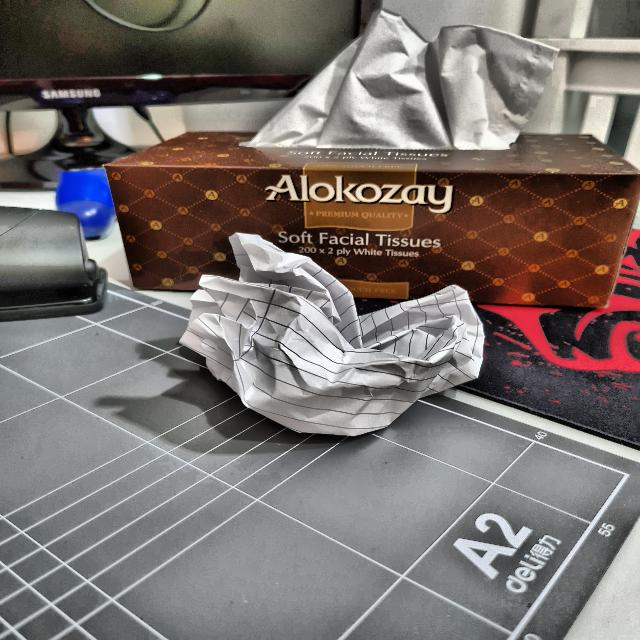Paper: (185, 240, 481, 443)
